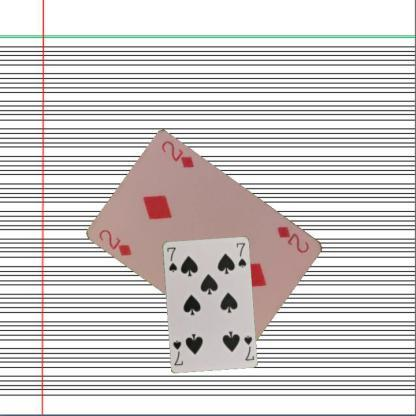2d: (274, 222, 311, 255), (96, 226, 134, 258)
7s: (164, 244, 178, 274), (241, 332, 255, 362)
